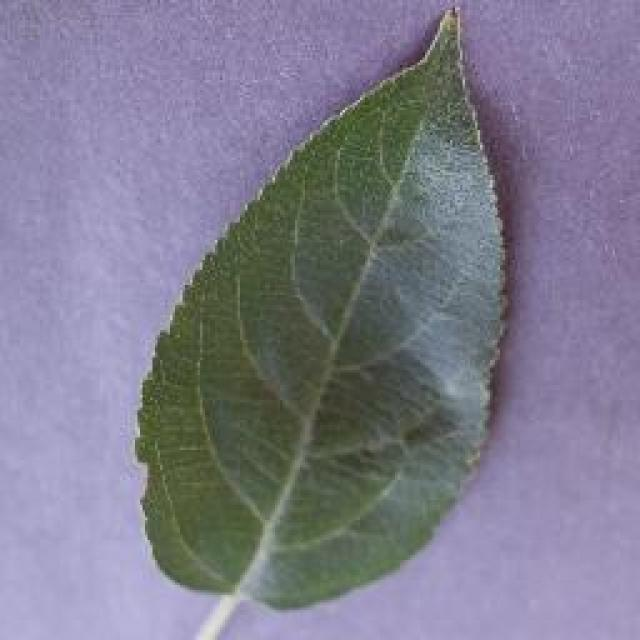apple healthy: (130, 2, 515, 612)
